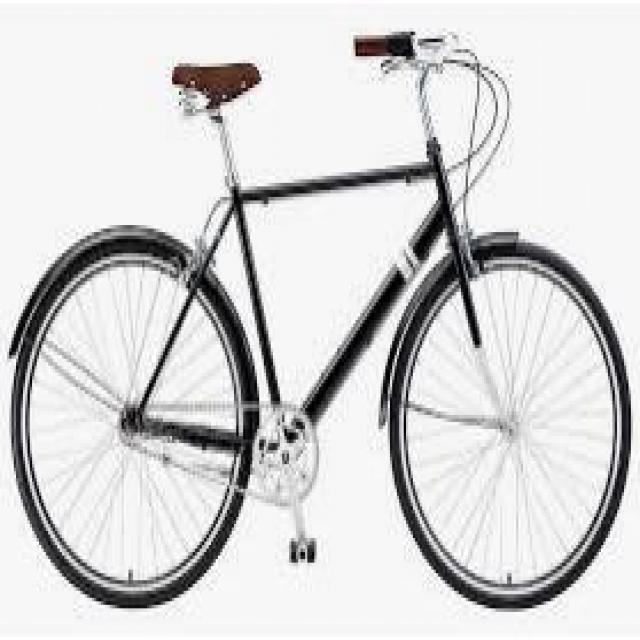bicycle: (29, 33, 630, 596)
